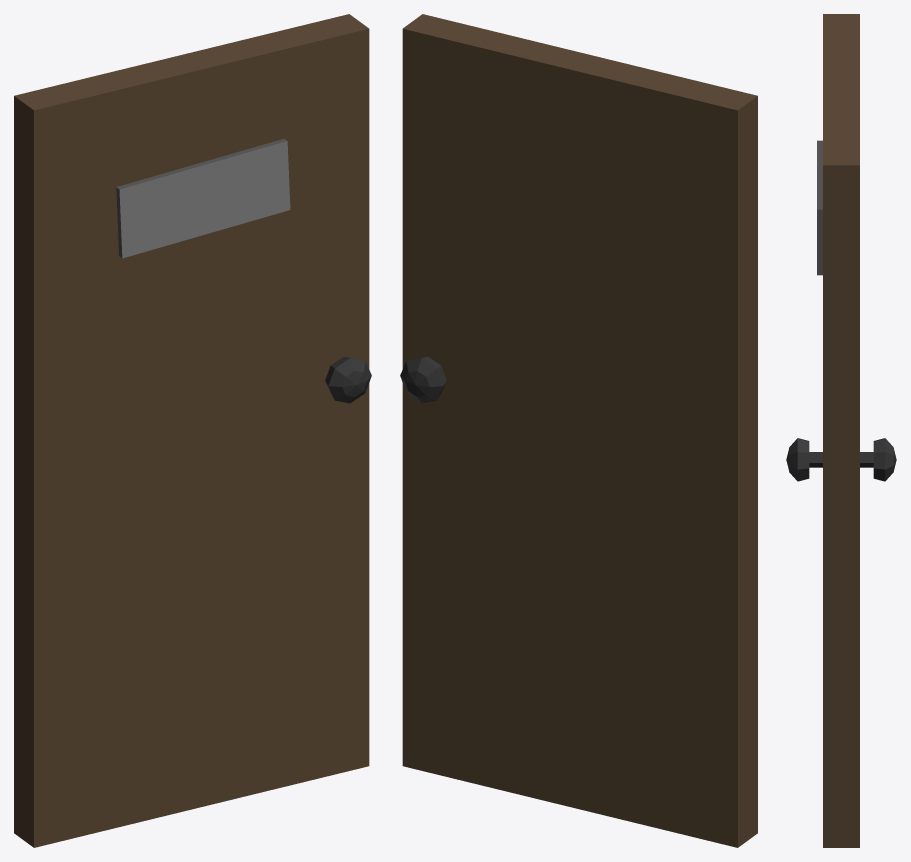
The model's file is door_3.fbx.
3 renders of one model, left to right at view 1: azimuth 30°, elevation 25°; view 2: azimuth 150°, elevation 25°; view 3: azimuth 270°, elevation 25°, orthographic. The views are drawn at different scales.
Visible parts, largest first — view 1: door_3; view 2: door_3; view 3: door_3.
Boxes of the visible parts, left/top/right/bottom form: door_3: left=14, top=14, right=371, bottom=847; door_3: left=400, top=14, right=757, bottom=847; door_3: left=786, top=14, right=896, bottom=847.
Size of the model in its own units: 96.57 by 203 by 29.74.
